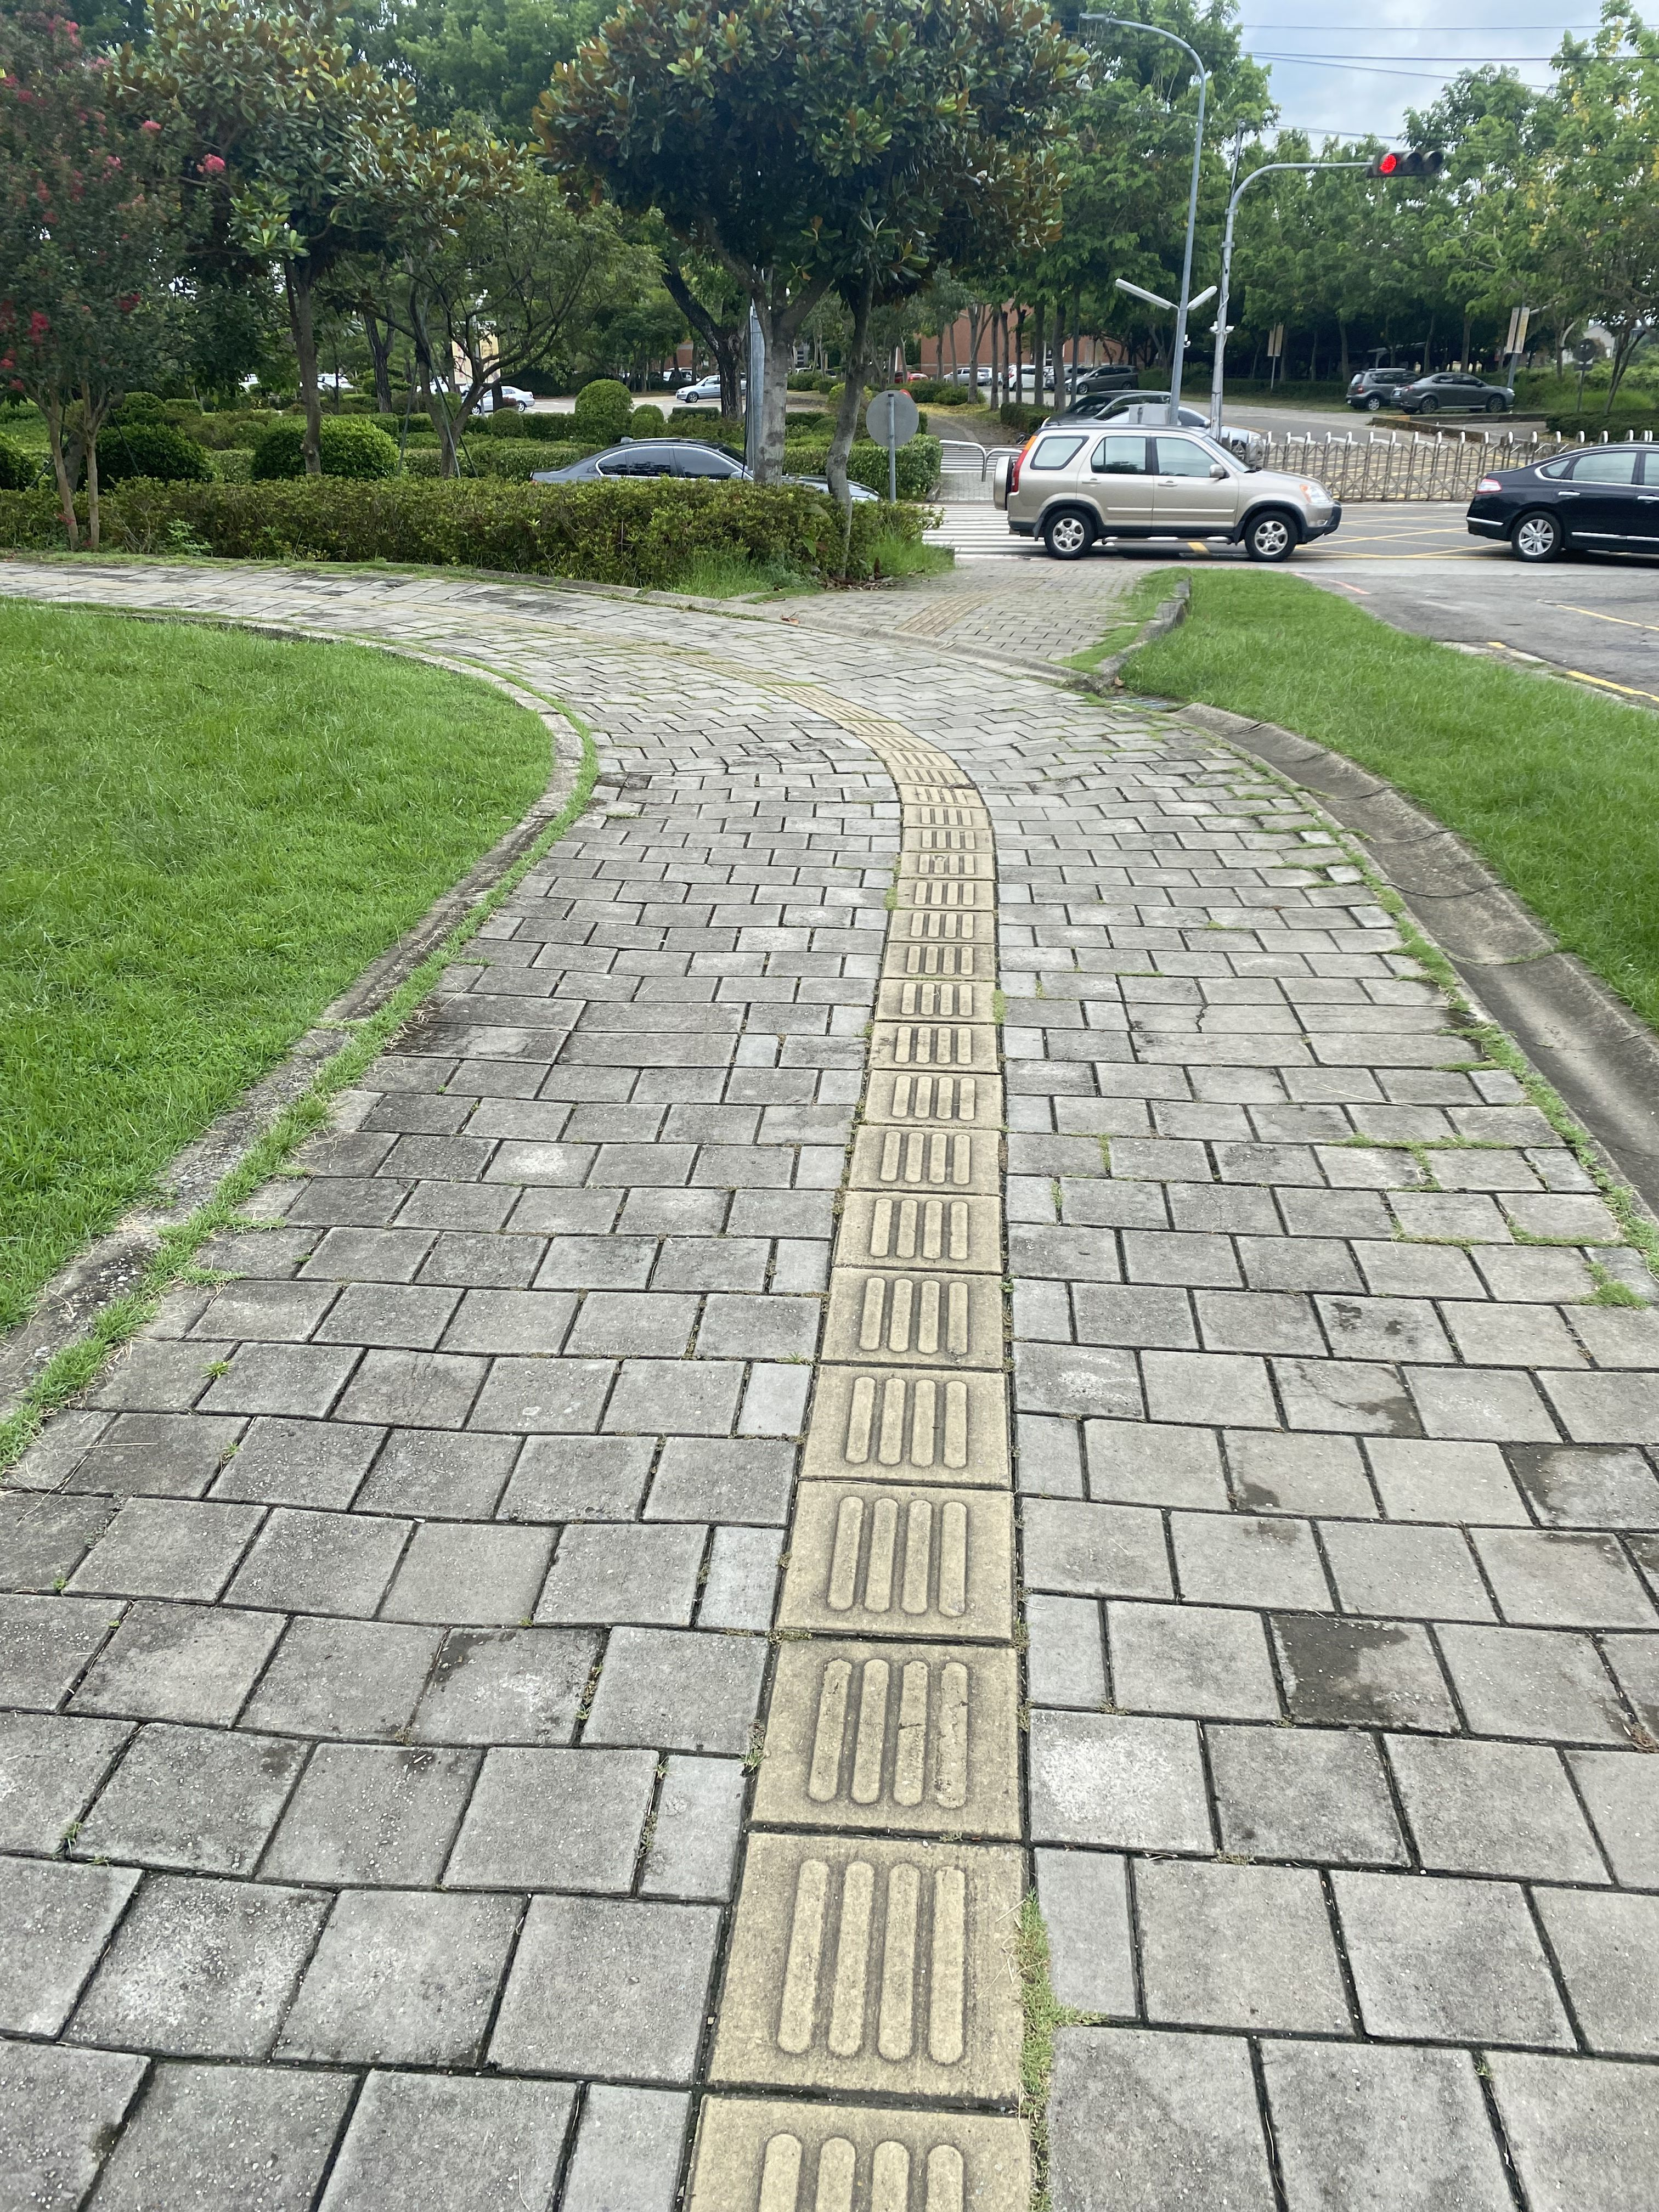sidewalk: (5, 543, 1659, 2212)
